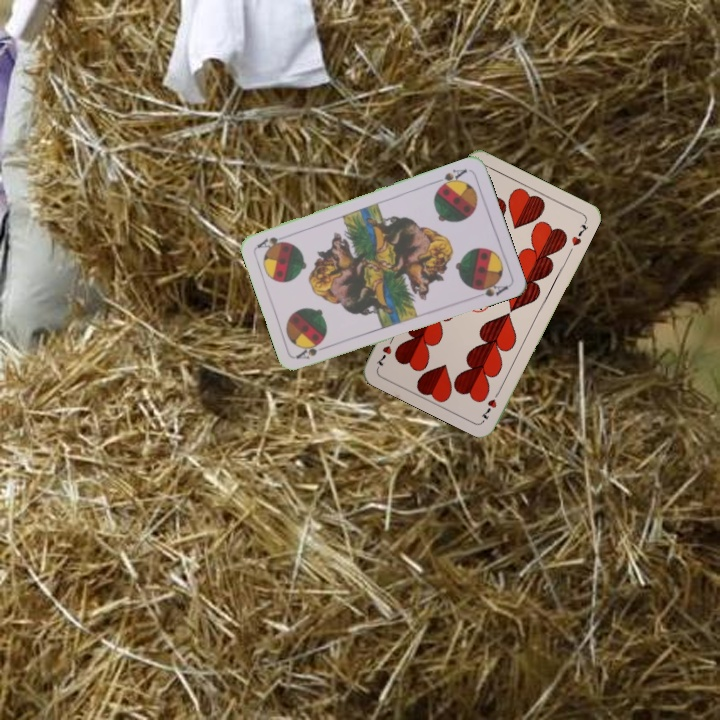H7: (477, 385, 503, 423)
SA: (431, 164, 470, 191), (292, 339, 332, 362)
